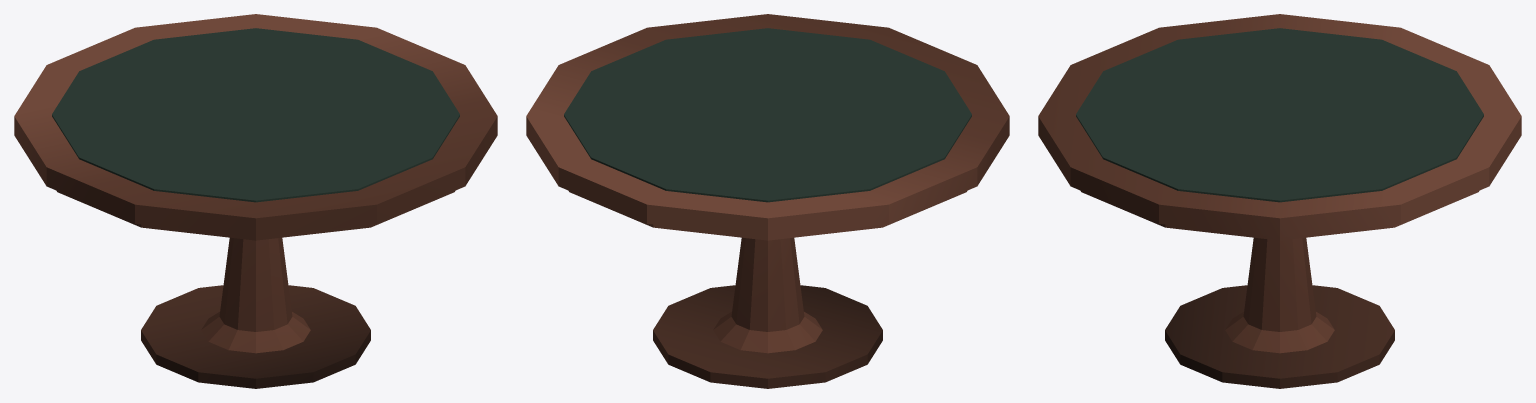
Rendered from Table 3.glb.
The picture shows the model from 3 angles, left to right: view 1: azimuth 30°, elevation 25°; view 2: azimuth 150°, elevation 25°; view 3: azimuth 270°, elevation 25°; orthographic projection.
Visible parts, largest first — view 1: Table 3; view 2: Table 3; view 3: Table 3.
Part boxes in pixels (x1=…): Table 3: x1=14, y1=14, x2=497, y2=388; Table 3: x1=526, y1=14, x2=1009, y2=388; Table 3: x1=1038, y1=14, x2=1521, y2=388.
Size of what is drawn, in the model's own units: 1.94 by 0.9997 by 1.94.
1 material, 1 textured.
